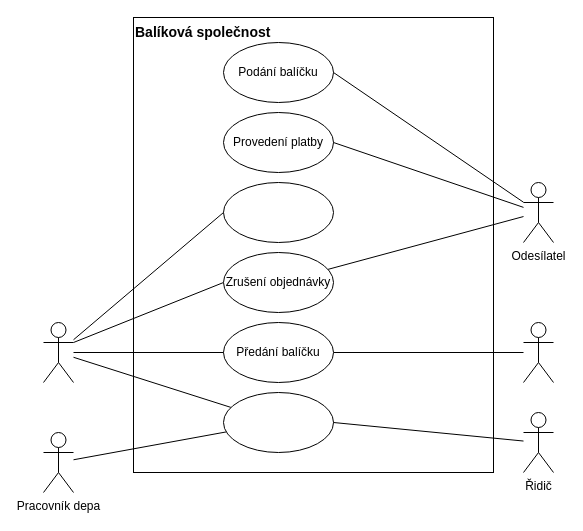
Some shapes in this 583 by 531 pixel diagram are drawn without their labels. The shapes that lost their labels are listed below. From the top down, each one's centre as x and y in pixels, then its label:
point 278,212: Vytvoření objednávky
point 58,352: Úředník
point 538,352: Adresát
point 278,422: Převzetí nakládky
